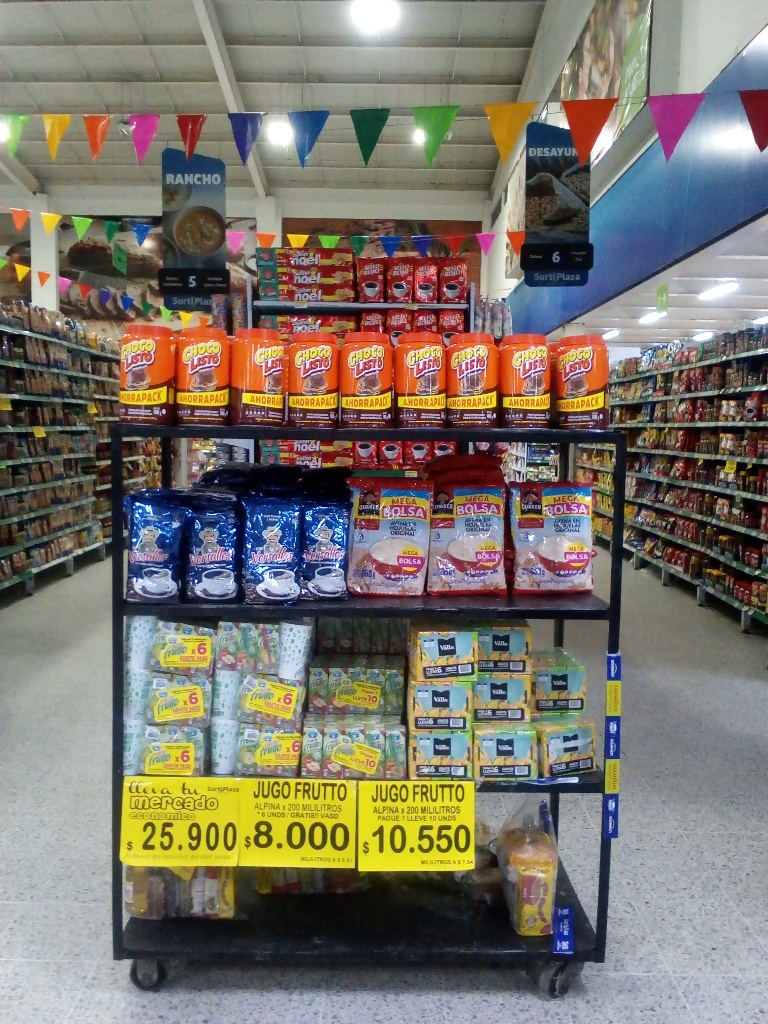COL0170103TRR00100: (118, 319, 176, 422)
